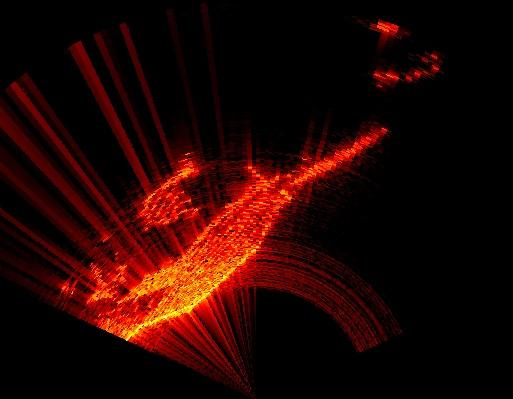shipwreck: (65, 130, 387, 338), (139, 164, 198, 224)
